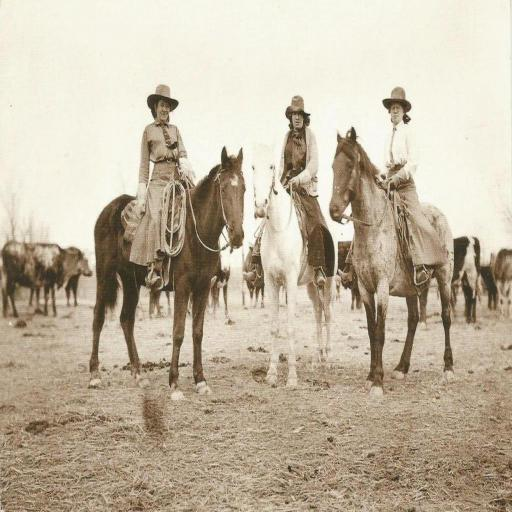horse: (88, 146, 242, 400), (330, 124, 456, 398), (249, 144, 334, 388)
